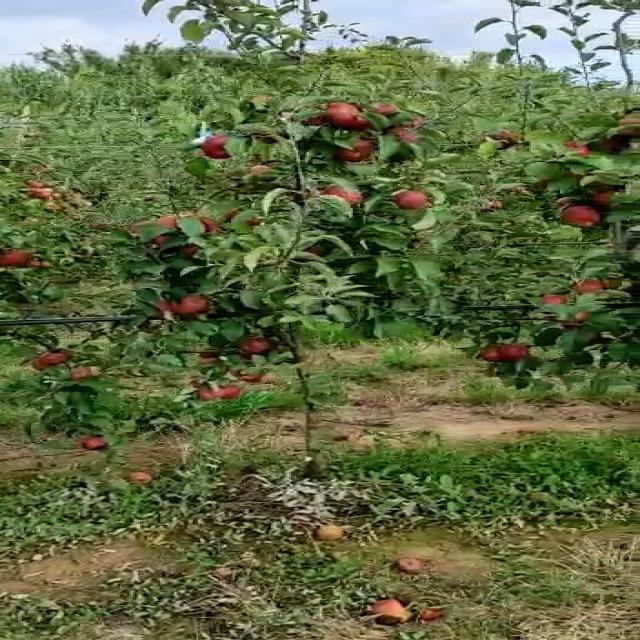100-_ripeness: (313, 102, 367, 127), (204, 129, 247, 159), (165, 294, 208, 316), (187, 384, 242, 401), (234, 337, 282, 354), (489, 345, 529, 364), (560, 207, 598, 227), (393, 191, 431, 211), (2, 251, 33, 271), (331, 184, 362, 200), (84, 435, 112, 451), (46, 352, 69, 370)
